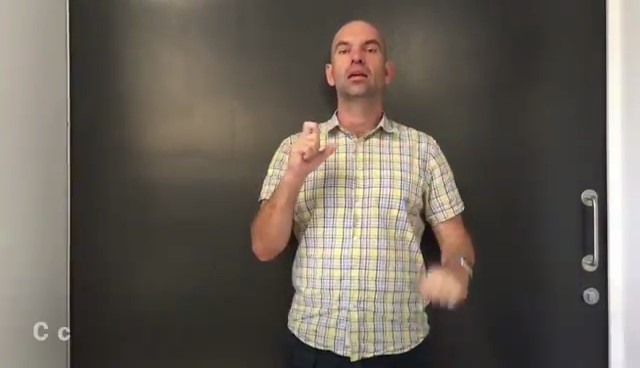C: (282, 111, 350, 179)
